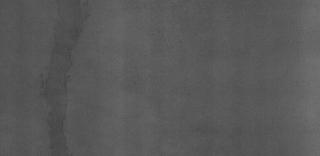water spot: (39, 8, 89, 138)
